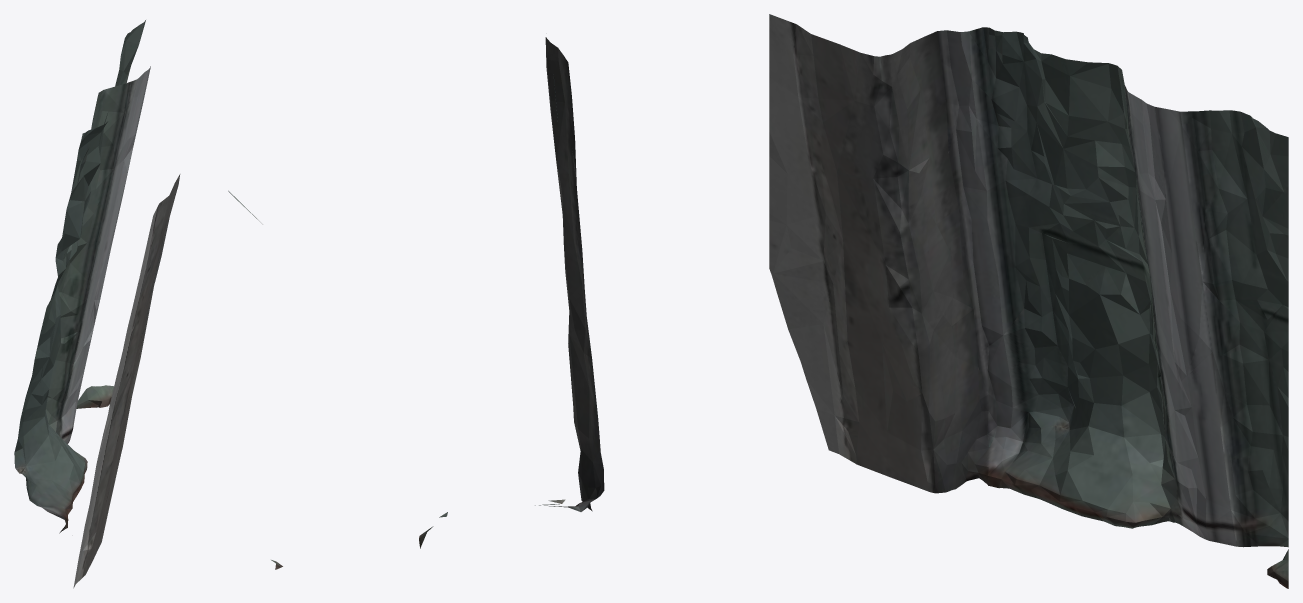
3 views of the same model, side by side, from view 1: azimuth 30°, elevation 25°; view 2: azimuth 150°, elevation 25°; view 3: azimuth 270°, elevation 25° (orthographic). The views are drawn at different scales.
Size of the model in its own units: 0.6005 by 0.8373 by 0.8373.
3 materials, 3 textured.
